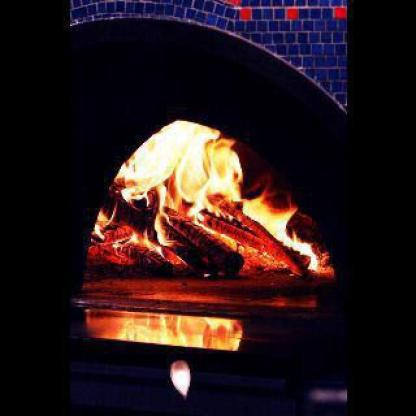fire: (81, 117, 332, 268), (84, 306, 242, 350)
